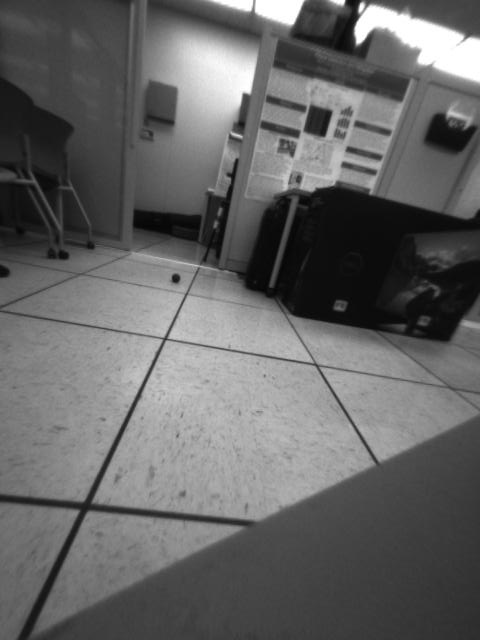dogtoy: (167, 267, 187, 288)
